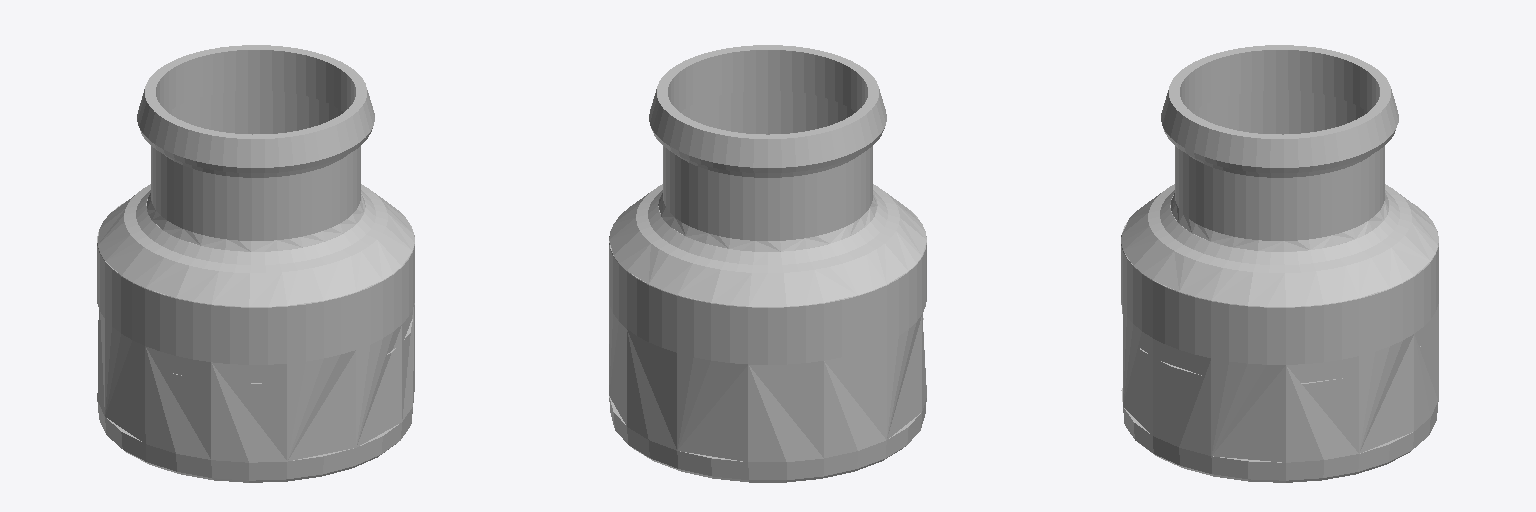
The model's file is ink.obj.
3 renders of one model, left to right at view 1: azimuth 30°, elevation 25°; view 2: azimuth 150°, elevation 25°; view 3: azimuth 270°, elevation 25°, orthographic.
Parts seen in each view (by area): view 1: ink_bottle; view 2: ink_bottle; view 3: ink_bottle.
Boxes of the visible parts, x1,y1,x2,y2 form: ink_bottle: [97, 45, 414, 482]; ink_bottle: [609, 45, 926, 482]; ink_bottle: [1121, 45, 1438, 482].
Bounding box in the file's own units: 0.048 × 0.0546 × 0.048.